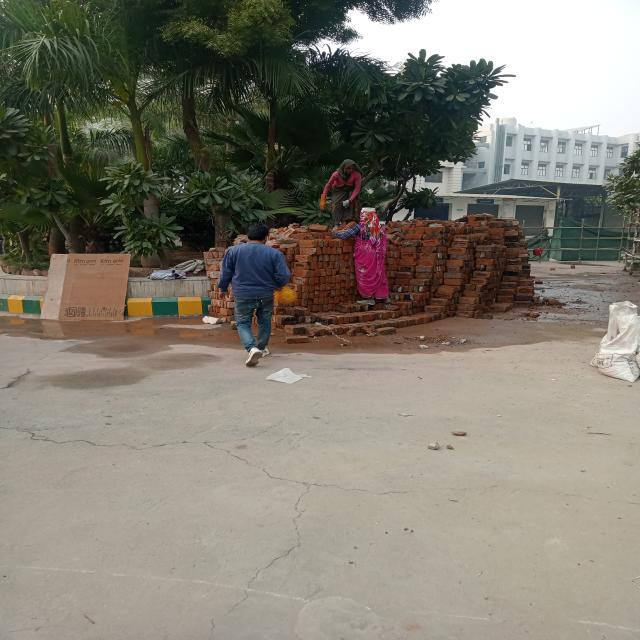unsafe: (214, 222, 283, 369), (349, 208, 391, 306), (324, 159, 361, 233)
